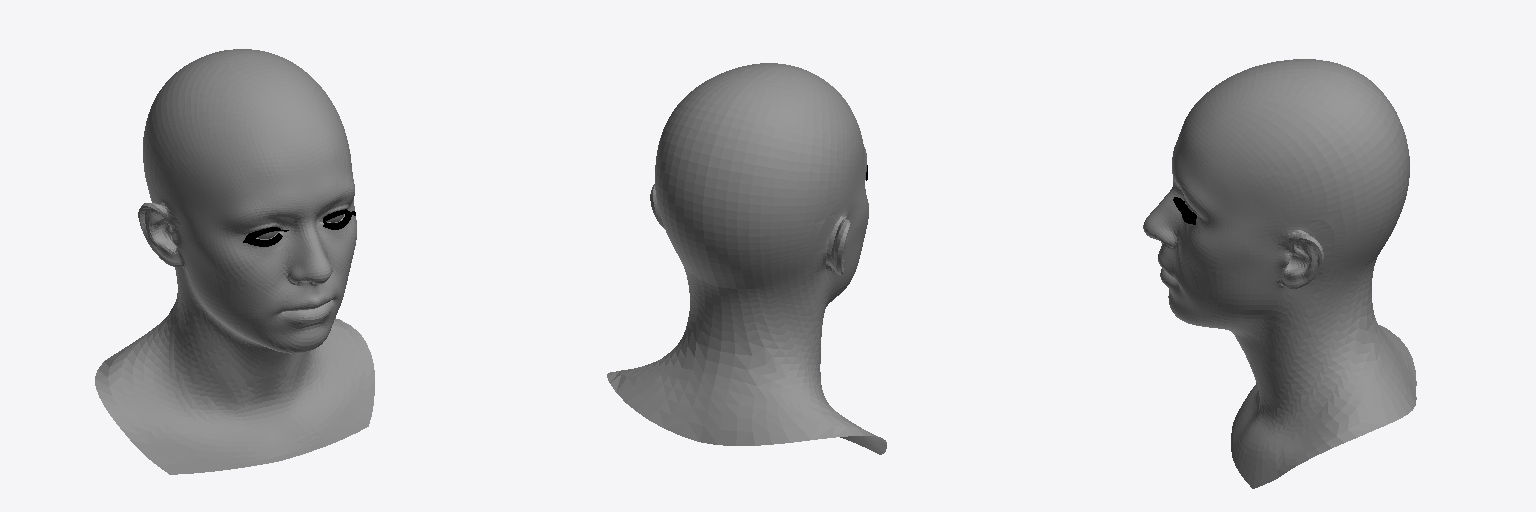
File: identity024.obj
3 renders of one model, left to right at view 1: azimuth 30°, elevation 25°; view 2: azimuth 150°, elevation 25°; view 3: azimuth 270°, elevation 25°, orthographic.
Size of the model in its own units: 24.74 by 33.81 by 22.34.